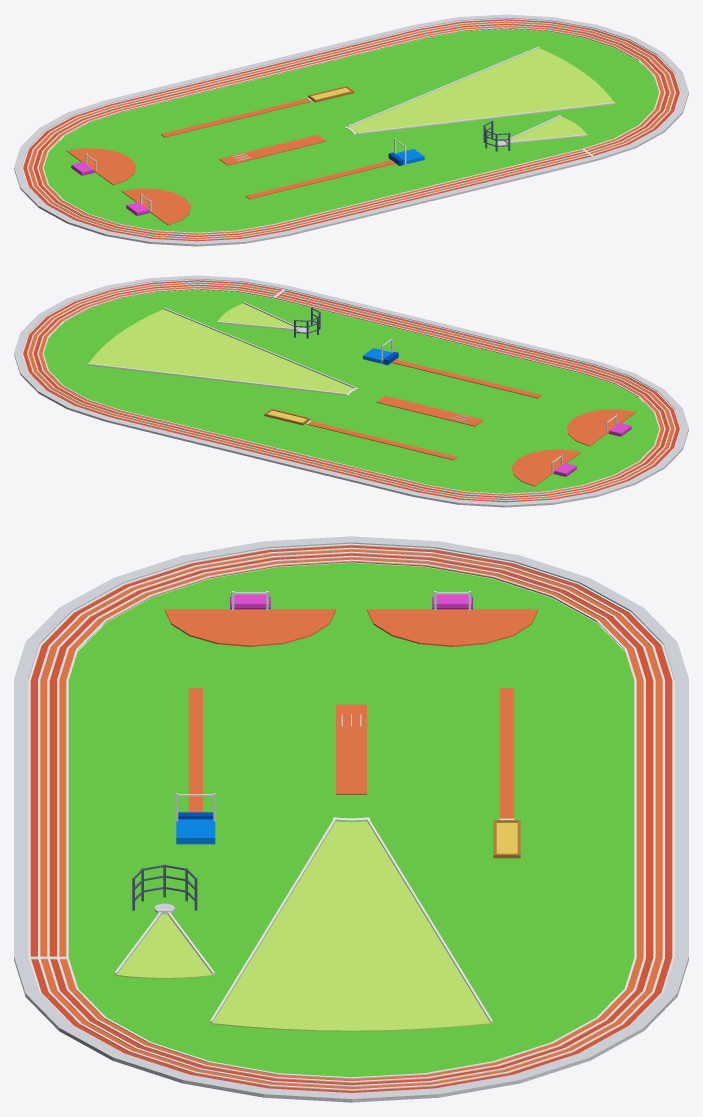
Rendered from athletics-stadium.glb.
The picture shows the model from 3 angles, top to bottom: view 1: azimuth 30°, elevation 25°; view 2: azimuth 150°, elevation 25°; view 3: azimuth 270°, elevation 25°; orthographic projection. The views are drawn at different scales.
Visible parts, largest first — view 1: Infield, JavelinSector, ConcreteBorder, Lane1, Lane4, Lane3, Lane2, LaneLine3, LaneLine2, LaneLine1, LaneLine0, HighJumpApproach2 (+8 smaller); view 2: Infield, JavelinSector, ConcreteBorder, Lane1, Lane4, Lane3, Lane2, LaneLine3, LaneLine2, LaneLine1, LaneLine0, HighJumpApproach1 (+8 smaller); view 3: Infield, JavelinSector, ConcreteBorder, Lane1, Lane4, Lane3, Lane2, LaneLine3, LaneLine2, LaneLine1, LaneLine0, HighJumpApproach1 (+9 smaller).
Part boxes in pixels (left/top/right/bottom): Infield: left=44, top=29, right=658, bottom=232; JavelinSector: left=349, top=48, right=614, bottom=134; ConcreteBorder: left=14, top=14, right=688, bottom=246; Lane1: left=38, top=26, right=664, bottom=234; Lane4: left=23, top=19, right=679, bottom=241; Lane3: left=28, top=21, right=674, bottom=239; Lane2: left=33, top=23, right=669, bottom=236; LaneLine3: left=27, top=20, right=675, bottom=240; LaneLine2: left=32, top=23, right=670, bottom=237; LaneLine1: left=37, top=25, right=665, bottom=235; LaneLine0: left=42, top=27, right=660, bottom=233; HighJumpApproach2: left=121, top=188, right=190, bottom=225; Infield: left=44, top=290, right=658, bottom=493; JavelinSector: left=88, top=309, right=353, bottom=395; ConcreteBorder: left=14, top=275, right=688, bottom=507; Lane1: left=38, top=287, right=664, bottom=495; Lane4: left=23, top=280, right=679, bottom=502; Lane3: left=28, top=282, right=674, bottom=500; Lane2: left=33, top=284, right=669, bottom=497; LaneLine3: left=27, top=281, right=675, bottom=501; LaneLine2: left=32, top=284, right=670, bottom=498; LaneLine1: left=37, top=286, right=665, bottom=496; LaneLine0: left=42, top=288, right=660, bottom=494; HighJumpApproach1: left=512, top=449, right=581, bottom=486; Infield: left=68, top=563, right=634, bottom=1077; JavelinSector: left=211, top=821, right=491, bottom=1031; ConcreteBorder: left=14, top=536, right=688, bottom=1102; Lane1: left=59, top=557, right=643, bottom=1081; Lane4: left=30, top=545, right=672, bottom=1092; Lane3: left=40, top=549, right=662, bottom=1089; Lane2: left=49, top=553, right=653, bottom=1085; LaneLine3: left=38, top=547, right=664, bottom=1090; LaneLine2: left=47, top=551, right=655, bottom=1086; LaneLine1: left=57, top=555, right=645, bottom=1082; LaneLine0: left=66, top=559, right=636, bottom=1078; HighJumpApproach1: left=367, top=609, right=538, bottom=646.
Size of the model in its own units: 8.73 by 0.2448 by 4.42.
